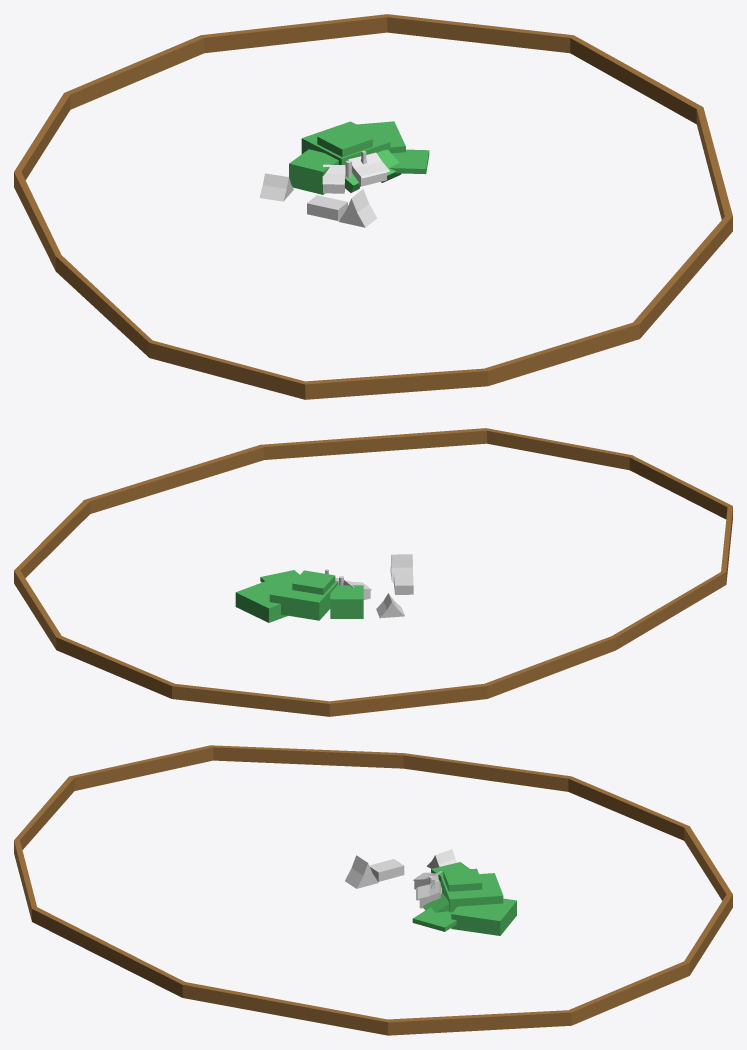
The model's file is town_Blockout.fbx.
3 renders of one model, top to bottom at view 1: azimuth 30°, elevation 25°; view 2: azimuth 150°, elevation 25°; view 3: azimuth 270°, elevation 25°, orthographic. The views are drawn at different scales.
Parts seen in each view (by area): view 1: Cylinder.001, Cube.006, Cube.002, Cube.005, Cube.012, Cube.008, Cube.011, Cube.013, Cube.014, Cube.001; view 2: Cylinder.001, Cube.002, Cube.013, Cube.006, Cube.005, Cube.012; view 3: Cylinder.001, Cube.013, Cube.002, Cube.005, Cube.008, Cube.012, Cube.011.
Boxes of the visible parts, box(x1,y1,x2,y2) form: Cylinder.001: box(14, 14, 732, 399); Cube.006: box(289, 149, 338, 194); Cube.002: box(301, 121, 390, 166); Cube.005: box(317, 126, 372, 157); Cube.012: box(338, 189, 376, 227); Cube.008: box(389, 149, 429, 174); Cube.011: box(307, 195, 347, 220); Cube.013: box(357, 121, 405, 153); Cube.014: box(259, 173, 293, 201); Cube.001: box(348, 152, 389, 178); Cylinder.001: box(14, 428, 732, 716); Cube.002: box(269, 573, 338, 620); Cube.013: box(235, 578, 287, 622); Cube.006: box(330, 585, 363, 618); Cube.005: box(292, 570, 335, 594); Cube.012: box(390, 554, 413, 582); Cylinder.001: box(14, 745, 732, 1035); Cube.013: box(451, 898, 516, 935); Cube.002: box(441, 873, 503, 912); Cube.005: box(443, 868, 482, 891); Cube.008: box(412, 907, 456, 931); Cube.012: box(345, 855, 378, 888); Cube.011: box(369, 859, 404, 881).
Size of what is drawn, in the model's own units: 25787 by 1299 by 28277.
